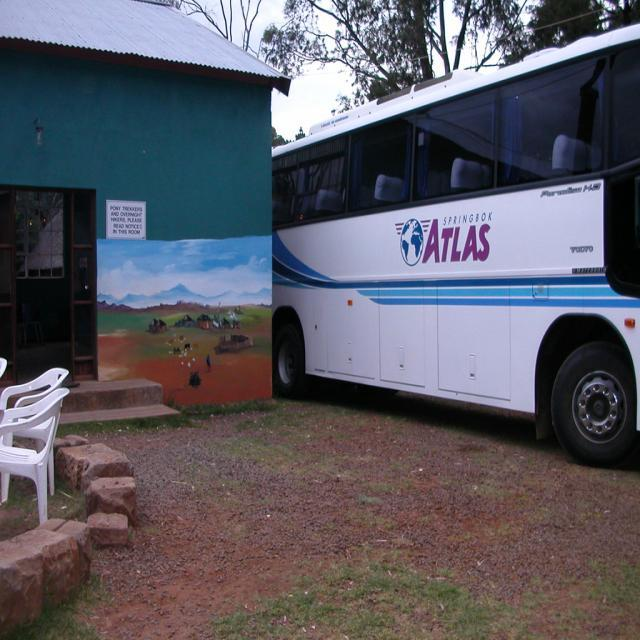motorcycle: (272, 21, 640, 464)
